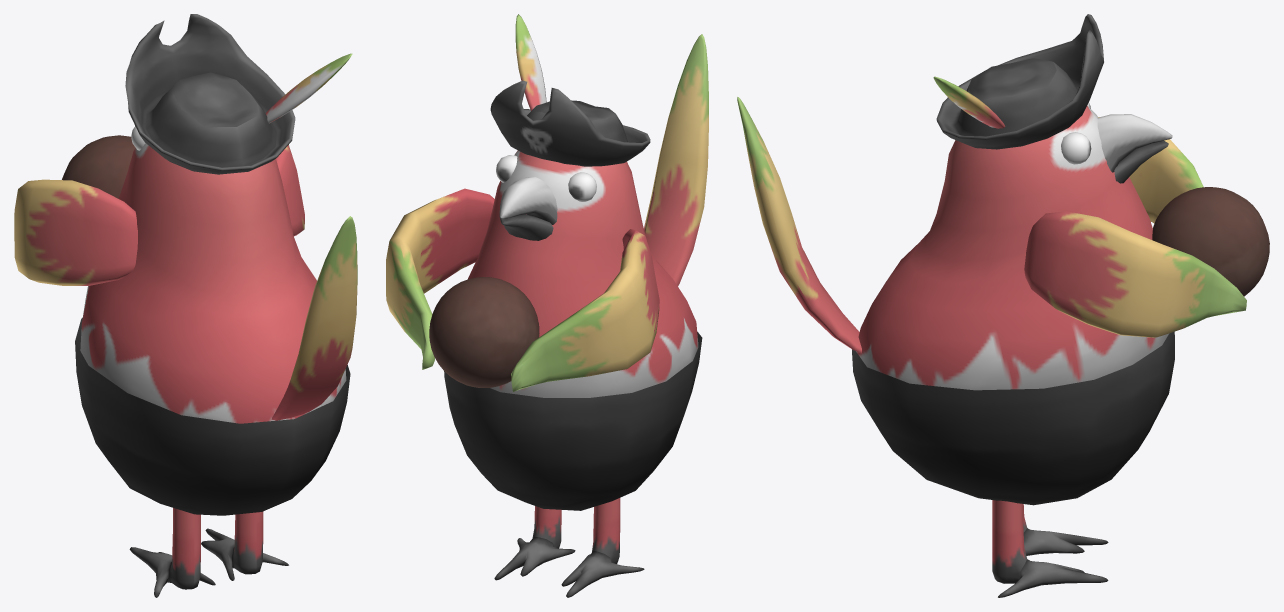
The model's file is oumu_idle_b_06.fbx.
3 views of the same model, side by side, from view 1: azimuth 30°, elevation 25°; view 2: azimuth 150°, elevation 25°; view 3: azimuth 270°, elevation 25° (orthographic). The views are drawn at different scales.
Parts seen in each view (by area): view 1: I_b_06; view 2: I_b_06; view 3: I_b_06.
Boxes of the visible parts, x1=… form: I_b_06: x1=14, y1=14, x2=357, y2=597; I_b_06: x1=386, y1=14, x2=708, y2=597; I_b_06: x1=737, y1=14, x2=1269, y2=597.
Bounding box in the file's own units: 1.12 × 2.1 × 1.87.
Materials: 1 (1 with a texture image).
